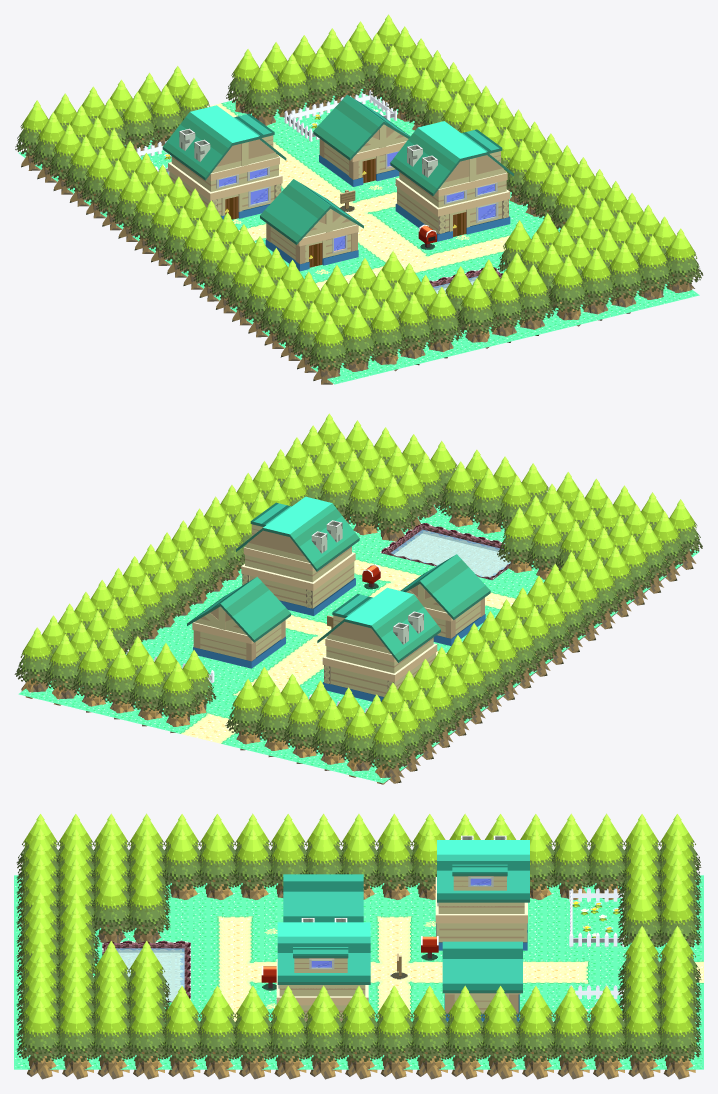
File: town.glb
3 renders of one model, top to bottom at view 1: azimuth 30°, elevation 25°; view 2: azimuth 150°, elevation 25°; view 3: azimuth 270°, elevation 25°, orthographic. The views are drawn at different scales.
Visible parts, largest first — view 1: Mesh_TreePine2 (×10), Mesh_HouseLarge, Mesh_TreePine4 (×10), Mesh_HouseLarge1, Mesh_TreePine15 (×8), Mesh_TreePine1 (×8), Mesh_HouseSmall1, Mesh_HouseSmall, Mesh_TreePine7 (×4), Mesh_TreePine10 (×3), Mesh_TreePine9 (×3), Mesh_TreePine3 (×2) (+3 smaller); view 2: Mesh_TreePine15 (×9), Mesh_HouseLarge, Mesh_HouseLarge1, Mesh_TreePine4 (×7), Mesh_TreePine2 (×7), Mesh_TreePine1 (×7), Mesh_HouseSmall, Mesh_TreePine14 (×3), Mesh_TreePine (×3), Mesh_TreePine3 (×3), Mesh_HouseSmall1, Mesh_TreePine5 (×3) (+5 smaller); view 3: Mesh_TreePine3 (×12), Mesh_TreePine14 (×11), Mesh_TreePine5 (×12), Mesh_TreePine (×11), Mesh_HouseLarge1, Mesh_TreePine1 (×11), Mesh_TreePine2 (×12), Mesh_HouseLarge, Mesh_TreePine4 (×12), Mesh_TreePine15 (×11), Mesh_HouseSmall, Mesh_HouseSmall1 (+8 smaller).
Boxes of the visible parts, bbox=[...] form: Mesh_TreePine2 (×10): bbox=[47, 45, 673, 384]; Mesh_HouseLarge: bbox=[390, 121, 513, 241]; Mesh_TreePine4 (×10): bbox=[31, 33, 582, 372]; Mesh_HouseLarge1: bbox=[162, 105, 286, 219]; Mesh_TreePine15 (×8): bbox=[15, 60, 566, 360]; Mesh_TreePine1 (×8): bbox=[64, 40, 550, 348]; Mesh_HouseSmall1: bbox=[260, 179, 363, 271]; Mesh_HouseSmall: bbox=[313, 95, 410, 186]; Mesh_TreePine7 (×4): bbox=[369, 232, 589, 371]; Mesh_TreePine10 (×3): bbox=[425, 242, 645, 358]; Mesh_TreePine9 (×3): bbox=[397, 249, 617, 365]; Mesh_TreePine3 (×2): bbox=[341, 228, 703, 371]; Mesh_TreePine15 (×9): bbox=[44, 523, 670, 784]; Mesh_HouseLarge: bbox=[236, 496, 359, 615]; Mesh_HouseLarge1: bbox=[317, 587, 440, 701]; Mesh_TreePine4 (×7): bbox=[135, 511, 686, 771]; Mesh_TreePine2 (×7): bbox=[151, 499, 702, 759]; Mesh_TreePine1 (×7): bbox=[102, 456, 653, 747]; Mesh_HouseSmall: bbox=[187, 576, 290, 668]; Mesh_TreePine14 (×3): bbox=[14, 627, 376, 777]; Mesh_TreePine (×3): bbox=[72, 507, 537, 756]; Mesh_TreePine3 (×3): bbox=[100, 514, 563, 763]; Mesh_HouseSmall1: bbox=[400, 554, 490, 645]; Mesh_TreePine5 (×3): bbox=[128, 521, 592, 770]; Mesh_TreePine3 (×12): bbox=[16, 828, 701, 1079]; Mesh_TreePine14 (×11): bbox=[92, 828, 701, 1079]; Mesh_TreePine5 (×12): bbox=[56, 828, 701, 1079]; Mesh_TreePine (×11): bbox=[127, 828, 701, 1079]; Mesh_HouseLarge1: bbox=[435, 835, 529, 950]; Mesh_TreePine1 (×11): bbox=[92, 813, 661, 1052]; Mesh_TreePine2 (×12): bbox=[16, 813, 661, 1052]; Mesh_HouseLarge: bbox=[276, 918, 370, 1023]; Mesh_TreePine4 (×12): bbox=[56, 814, 661, 1052]; Mesh_TreePine15 (×11): bbox=[92, 813, 701, 1052]; Mesh_HouseSmall: bbox=[442, 941, 522, 1021]; Mesh_HouseSmall1: bbox=[283, 874, 363, 922].
Bounding box in the file's own units: 0.2769 × 0.0574 × 0.39.
Materials: 1 (1 with a texture image).
